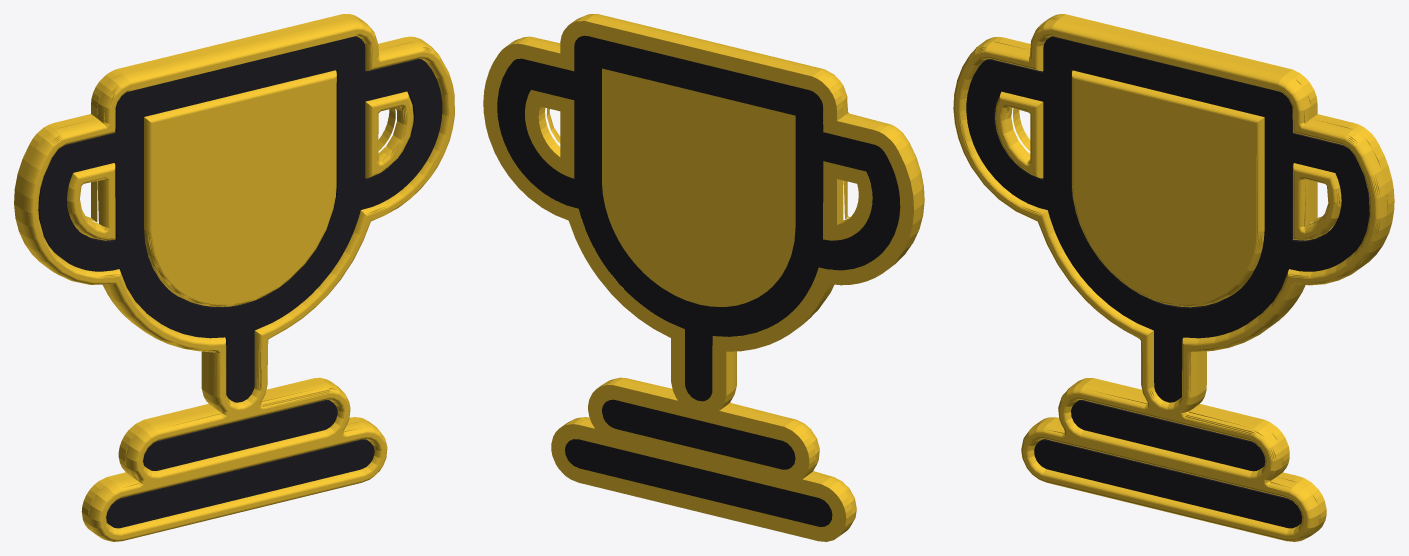
Rendered from records_t8.glb.
3 views of the same model, side by side, from view 1: azimuth 30°, elevation 25°; view 2: azimuth 150°, elevation 25°; view 3: azimuth 330°, elevation 25° (orthographic).
Visible parts, largest first — view 1: mark, mark_channel; view 2: mark, mark_channel; view 3: mark, mark_channel.
Boxes of the visible parts, box(x1,y1,x2,y2) form: mark: box(14, 14, 454, 541); mark_channel: box(38, 36, 442, 528); mark: box(483, 14, 924, 541); mark_channel: box(497, 35, 900, 526); mark: box(953, 14, 1394, 541); mark_channel: box(966, 36, 1369, 528).
Size of the model in its own units: 0.4202 by 0.4319 by 0.024.
